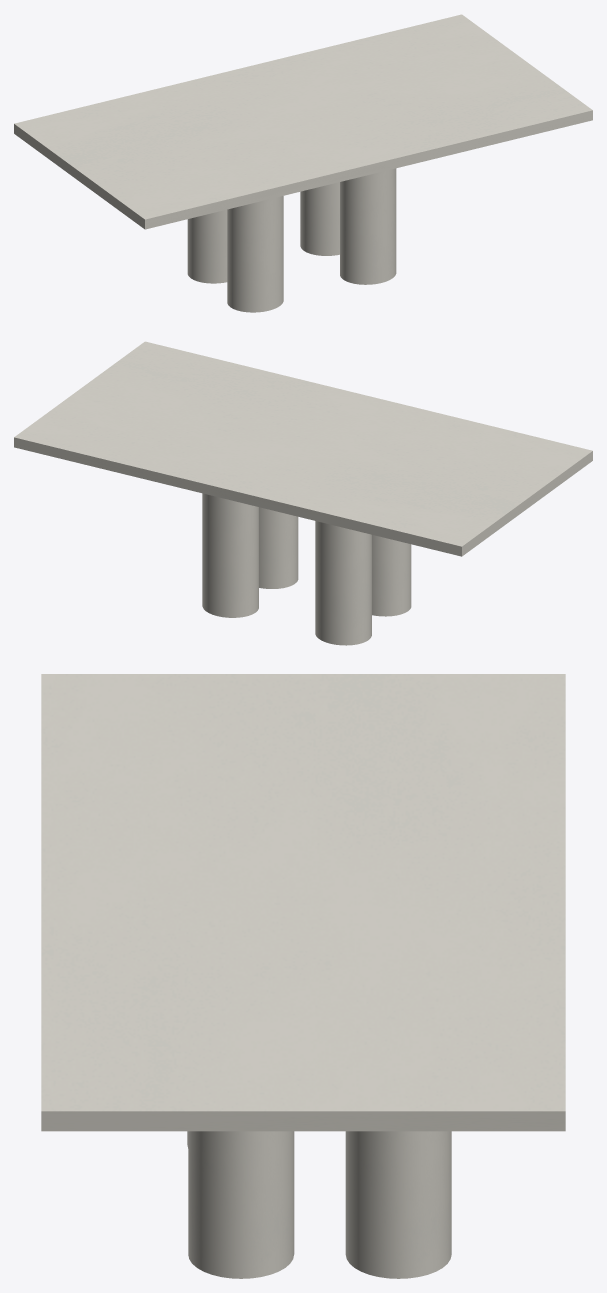
The model's file is pale_recta_standard_grove.glb.
The picture shows the model from 3 angles, top to bottom: view 1: azimuth 30°, elevation 25°; view 2: azimuth 150°, elevation 25°; view 3: azimuth 270°, elevation 25°; orthographic projection. The views are drawn at different scales.
Parts seen in each view (by area): view 1: standard_recta, grove; view 2: standard_recta, grove; view 3: standard_recta, grove.
Part boxes in pixels (box(x1,y1,x2,y2)): standard_recta: box(14, 14, 592, 229); grove: box(187, 168, 396, 312); standard_recta: box(14, 341, 592, 556); grove: box(202, 493, 411, 645); standard_recta: box(41, 674, 565, 1131); grove: box(187, 1131, 451, 1278).
Bounding box in the file's own units: 7.5 × 2.51 × 3.8.
Materials: 1 (1 with a texture image).
